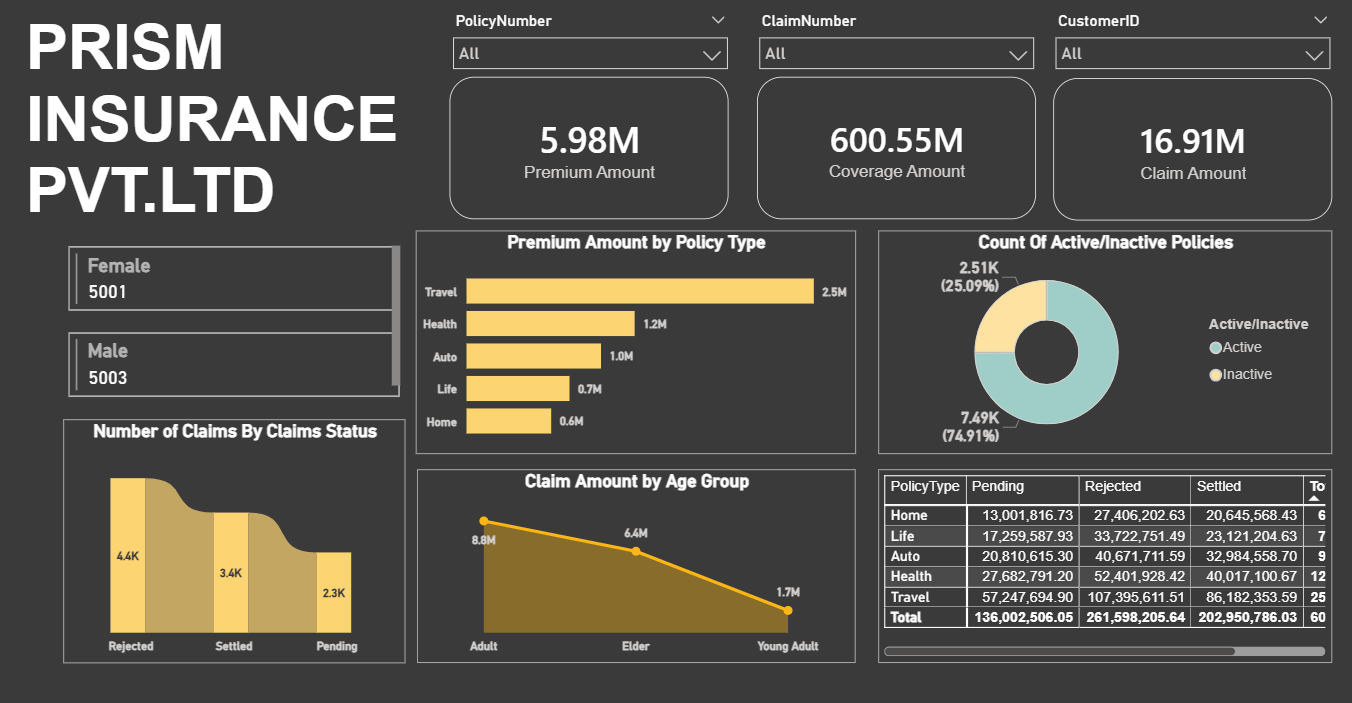

What the dashboard file says about the page in this screenshot:
{"tool":"powerbi","page":{"name":"Page 1","canvas":[1280,720],"ordinal":0},"visuals":[{"type":"slicer","fields":{"Values":["InsuranceData.PolicyNumber"]},"box":[416.7,12.9,277.8,77.3],"z":0},{"type":"slicer","fields":{"Values":["InsuranceData.ClaimNumber"]},"box":[704.6,12.9,277.8,77.3],"z":1000},{"type":"slicer","fields":{"Values":["InsuranceData.CustomerID"]},"box":[982.4,12.9,277.8,77.3],"z":2000},{"type":"textbox","box":[22.3,12.9,394.9,295.3],"z":3000},{"type":"cardVisual","fields":{"Data":["Sum(InsuranceData.PremiumAmount)"]},"box":[424.3,78.4,261.6,133.8],"z":4000},{"type":"cardVisual","fields":{"Data":["Sum(InsuranceData.CoverageAmount)"]},"box":[712.5,78.4,261.6,133.8],"z":5000},{"type":"cardVisual","fields":{"Data":["Sum(InsuranceData.ClaimAmount)"]},"box":[989.7,79.6,261.6,133.8],"z":6000},{"type":"multiRowCard","fields":{"Values":["InsuranceData.Gender","CountNonNull(InsuranceData.Gender)"]},"box":[62.1,232,321.1,155.9],"z":7000},{"type":"ribbonChart","title":"Number of Claims By Claims Status","fields":{"Category":["InsuranceData.ClaimStatus"],"Y":["CountNonNull(InsuranceData.ClaimStatus)"]},"box":[62.1,399.6,321.1,228.5],"z":8000},{"type":"barChart","title":"Premium Amount by Policy Type","fields":{"Category":["InsuranceData.PolicyType"],"Y":["Sum(InsuranceData.PremiumAmount)"]},"box":[392.6,222.7,412.5,209.8],"z":8001},{"type":"lineChart","title":"Claim Amount by Age Group","fields":{"Y":["Sum(InsuranceData.ClaimAmount)"],"Category":["InsuranceData.Age Group"]},"box":[393.8,446.5,411.3,181.6],"z":8002},{"type":"donutChart","title":" Count Of Active/Inactive Policies","fields":{"Category":["InsuranceData.Active/Inactive"],"Y":["CountNonNull(InsuranceData.Active/Inactive)"]},"box":[826.2,222.7,425.4,209.8],"z":8003},{"type":"pivotTable","fields":{"Values":["Sum(InsuranceData.CoverageAmount)"],"Rows":["InsuranceData.PolicyType"],"Columns":["InsuranceData.ClaimStatus"]},"box":[826.2,446.5,425.4,181.6],"z":8004}]}

Visuals, with their boxes on the page's 1280x720 design canvas (x1, y1, x2, y2). These are canvas units, not pixel positions in the 1352x703 screenshot, which may show the page scaled, cropped or inside an application window:
slicer - InsuranceData.PolicyNumber: {"left": 417, "top": 13, "right": 694, "bottom": 90}
slicer - InsuranceData.ClaimNumber: {"left": 705, "top": 13, "right": 982, "bottom": 90}
slicer - InsuranceData.CustomerID: {"left": 982, "top": 13, "right": 1260, "bottom": 90}
textbox: {"left": 22, "top": 13, "right": 417, "bottom": 308}
cardVisual - Sum(InsuranceData.PremiumAmount): {"left": 424, "top": 78, "right": 686, "bottom": 212}
cardVisual - Sum(InsuranceData.CoverageAmount): {"left": 712, "top": 78, "right": 974, "bottom": 212}
cardVisual - Sum(InsuranceData.ClaimAmount): {"left": 990, "top": 80, "right": 1251, "bottom": 213}
multiRowCard - InsuranceData.Gender x CountNonNull(InsuranceData.Gender): {"left": 62, "top": 232, "right": 383, "bottom": 388}
"Number of Claims By Claims Status" ribbonChart: {"left": 62, "top": 400, "right": 383, "bottom": 628}
"Premium Amount by Policy Type" barChart: {"left": 393, "top": 223, "right": 805, "bottom": 432}
"Claim Amount by Age Group" lineChart: {"left": 394, "top": 446, "right": 805, "bottom": 628}
" Count Of Active/Inactive Policies" donutChart: {"left": 826, "top": 223, "right": 1252, "bottom": 432}
pivotTable - Sum(InsuranceData.CoverageAmount) x InsuranceData.PolicyType: {"left": 826, "top": 446, "right": 1252, "bottom": 628}
